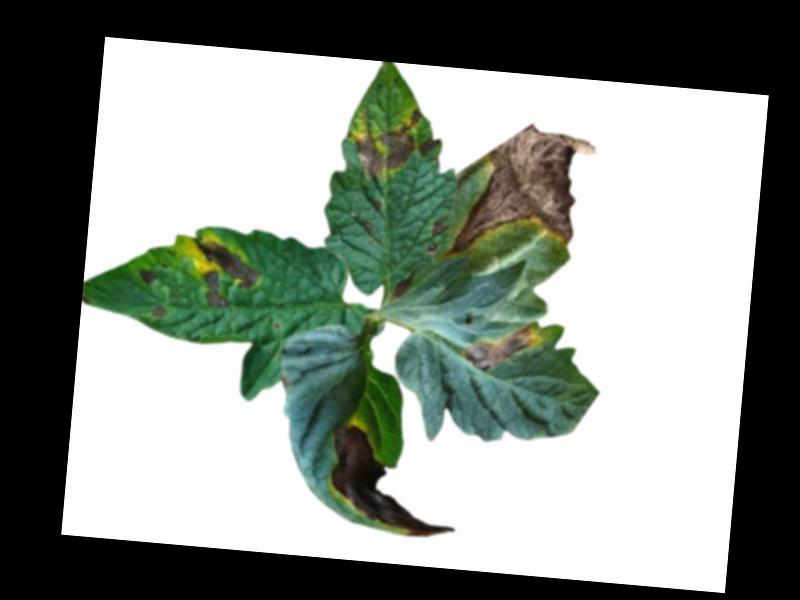Early_blight: (449, 117, 596, 271), (324, 424, 465, 542), (188, 237, 264, 315), (353, 103, 423, 183), (464, 316, 546, 377), (426, 211, 450, 257), (390, 272, 416, 301), (133, 265, 158, 289), (418, 134, 440, 161), (153, 307, 168, 319)
